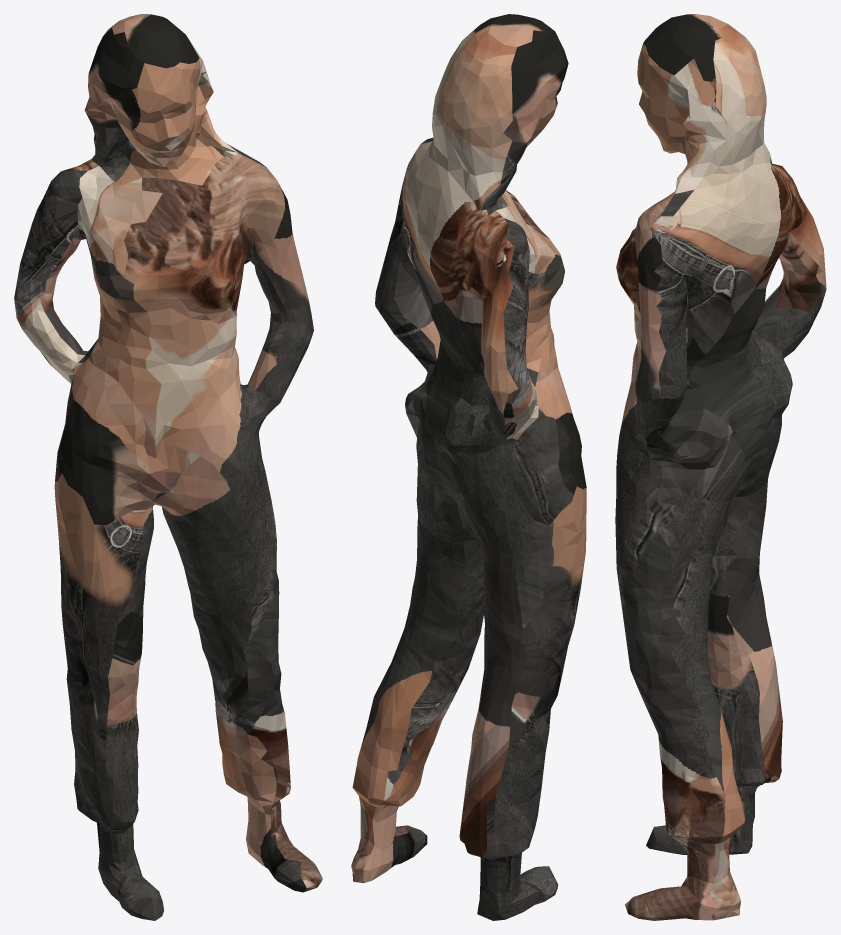
File: girl_1.glb
3 renders of one model, left to right at view 1: azimuth 30°, elevation 25°; view 2: azimuth 150°, elevation 25°; view 3: azimuth 270°, elevation 25°, orthographic. The views are drawn at different scales.
Visible parts, largest first — view 1: girl_1; view 2: girl_1; view 3: girl_1.
Part boxes in pixels (x1,y1,x2,y2): girl_1: (14,14,322,920); girl_1: (351,14,586,920); girl_1: (615,14,826,920).
Size of the model in its own units: 0.4511 by 1.68 by 0.3866.
1 material, 1 textured.
